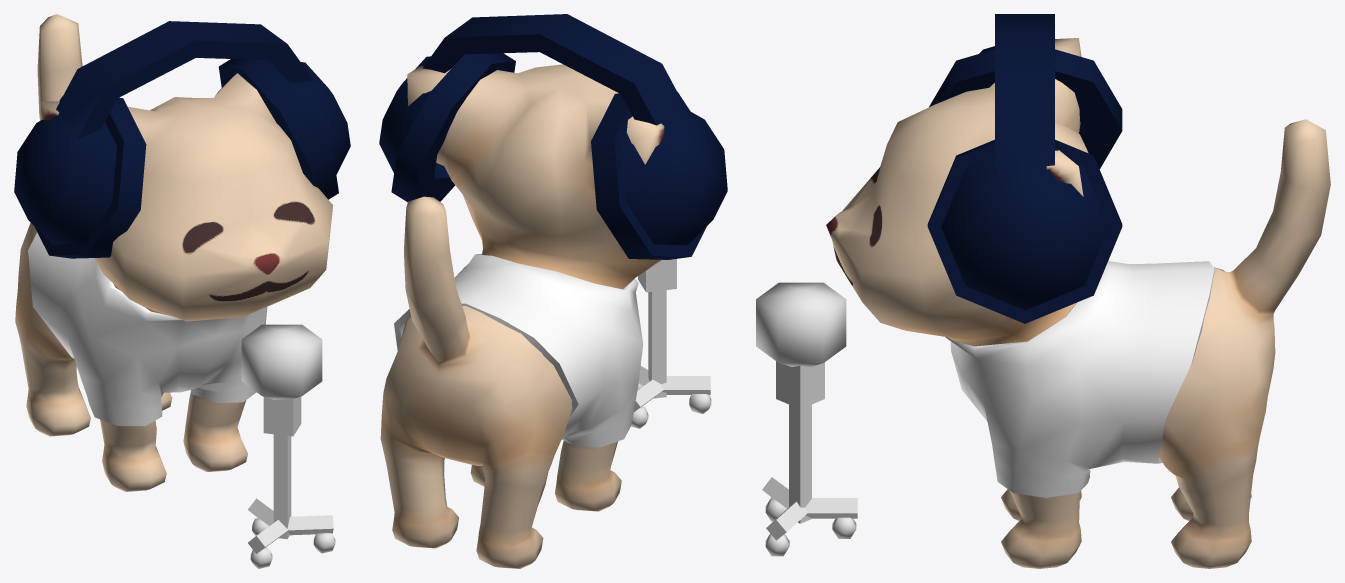
File: Broadcaster Cat01.fbx
3 renders of one model, left to right at view 1: azimuth 30°, elevation 25°; view 2: azimuth 150°, elevation 25°; view 3: azimuth 270°, elevation 25°, orthographic. The views are drawn at different scales.
Parts seen in each view (by area): view 1: Cat_Base001, Broadcaster_Cat_Headphones, Broadcaster_Cat_Shirt, Broadcaster_Cat_Mic; view 2: Cat_Base001, Broadcaster_Cat_Headphones, Broadcaster_Cat_Shirt, Broadcaster_Cat_Mic; view 3: Cat_Base001, Broadcaster_Cat_Headphones, Broadcaster_Cat_Shirt, Broadcaster_Cat_Mic.
Boxes of the visible parts, bbox=[...] form: Cat_Base001: bbox=[15, 14, 333, 491]; Broadcaster_Cat_Headphones: bbox=[14, 21, 350, 258]; Broadcaster_Cat_Shirt: bbox=[28, 232, 267, 426]; Broadcaster_Cat_Mic: bbox=[241, 324, 335, 568]; Cat_Base001: bbox=[380, 64, 664, 568]; Broadcaster_Cat_Headphones: bbox=[379, 14, 727, 259]; Broadcaster_Cat_Shirt: bbox=[394, 254, 643, 447]; Broadcaster_Cat_Mic: bbox=[631, 259, 711, 428]; Cat_Base001: bbox=[826, 38, 1330, 568]; Broadcaster_Cat_Headphones: bbox=[927, 14, 1122, 323]; Broadcaster_Cat_Shirt: bbox=[945, 261, 1214, 497]; Broadcaster_Cat_Mic: bbox=[756, 282, 857, 556].
Size of the model in its own units: 2.24 by 3.22 by 3.1.
Materials: 3 (1 with a texture image).
